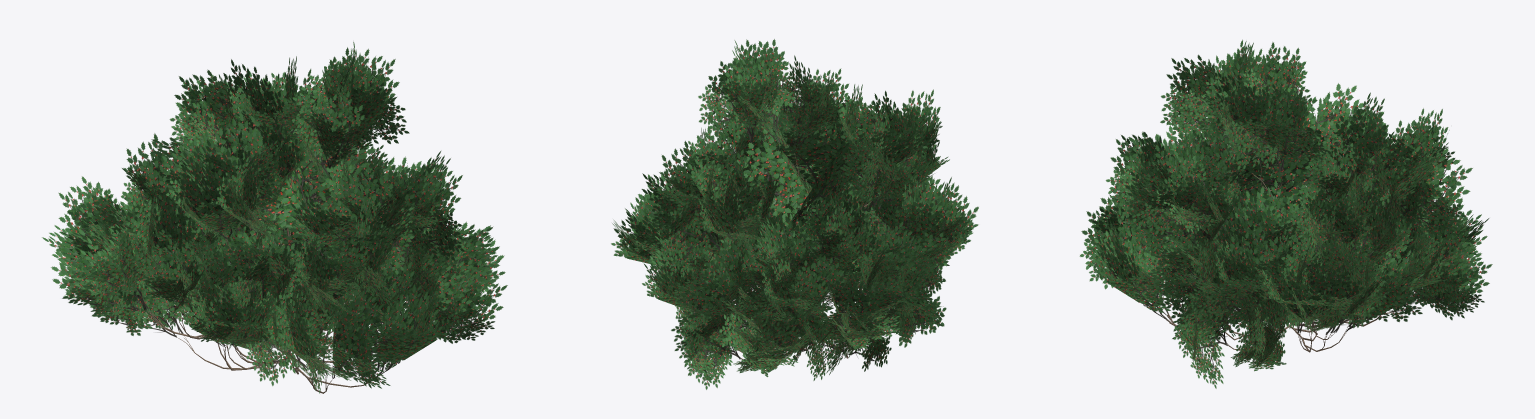
Rendered from forest-holly-tree-v1-optimized.glb.
3 views of the same model, side by side, from view 1: azimuth 30°, elevation 25°; view 2: azimuth 150°, elevation 25°; view 3: azimuth 270°, elevation 25° (orthographic). The views are drawn at different scales.
Visible parts, largest first — view 1: HollyShrub; view 2: HollyShrub; view 3: HollyShrub.
Part boxes in pixels (x1,y1,x2,y2): HollyShrub: (42,41,507,393); HollyShrub: (611,39,978,389); HollyShrub: (1079,39,1492,388).
Bounding box in the file's own units: 3.82 × 2.6 × 3.7.
2 materials, 2 textured.
